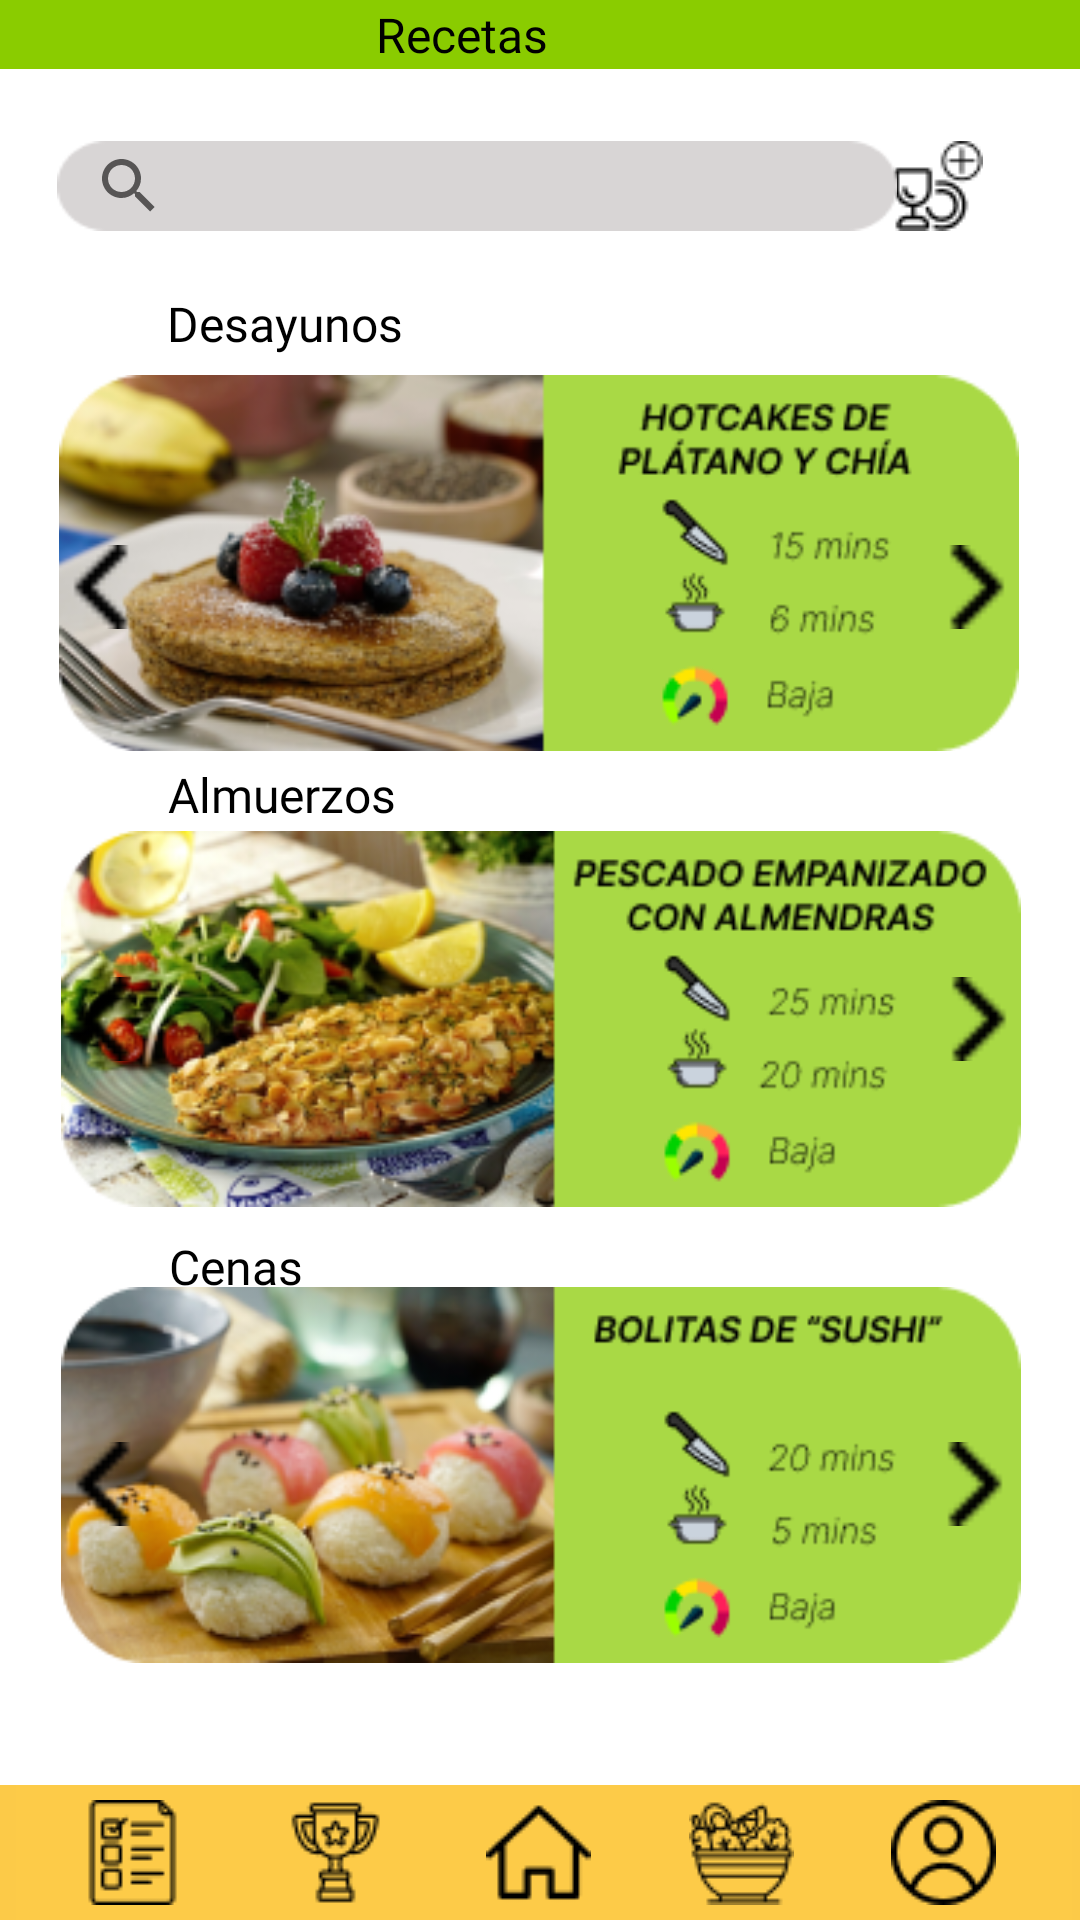

Screen size 1080px x 1920px. Icon name, then its box in pixels as (x1, y1, x2, y2):
agregarres: (893, 141, 983, 231)
iniciop: (486, 1805, 591, 1900)
listatareas: (88, 1800, 177, 1905)
logros: (291, 1802, 380, 1903)
perfil: (891, 1800, 996, 1905)
recetass: (689, 1802, 794, 1905)
